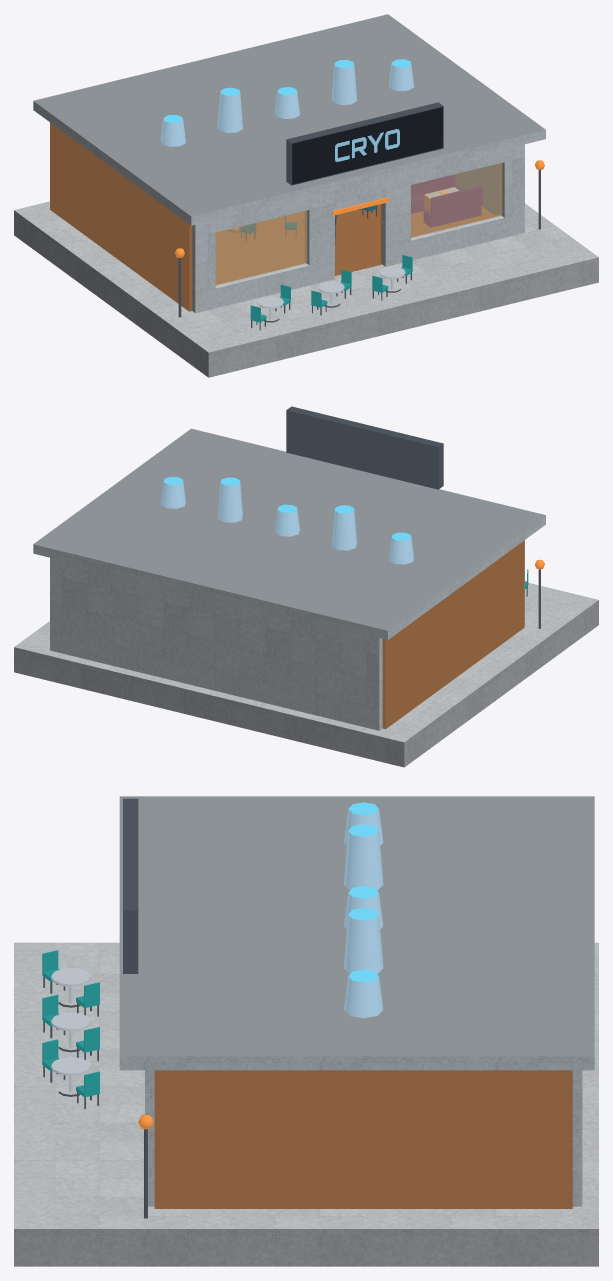
Rendered from cryo_tavern.glb.
The picture shows the model from 3 angles, top to bottom: view 1: azimuth 30°, elevation 25°; view 2: azimuth 150°, elevation 25°; view 3: azimuth 270°, elevation 25°; orthographic projection. The views are drawn at different scales.
Visible parts, largest first — view 1: cryo_tavern_LOD0; view 2: cryo_tavern_LOD0; view 3: cryo_tavern_LOD0.
Part boxes in pixels (<box>): cryo_tavern_LOD0: <box>14,14,598,377</box>; cryo_tavern_LOD0: <box>14,406,598,767</box>; cryo_tavern_LOD0: <box>14,796,598,1266</box>.
Size of what is drawn, in the model's own units: 15.4 by 6.75 by 13.3.
Materials: 3 (2 with a texture image).
